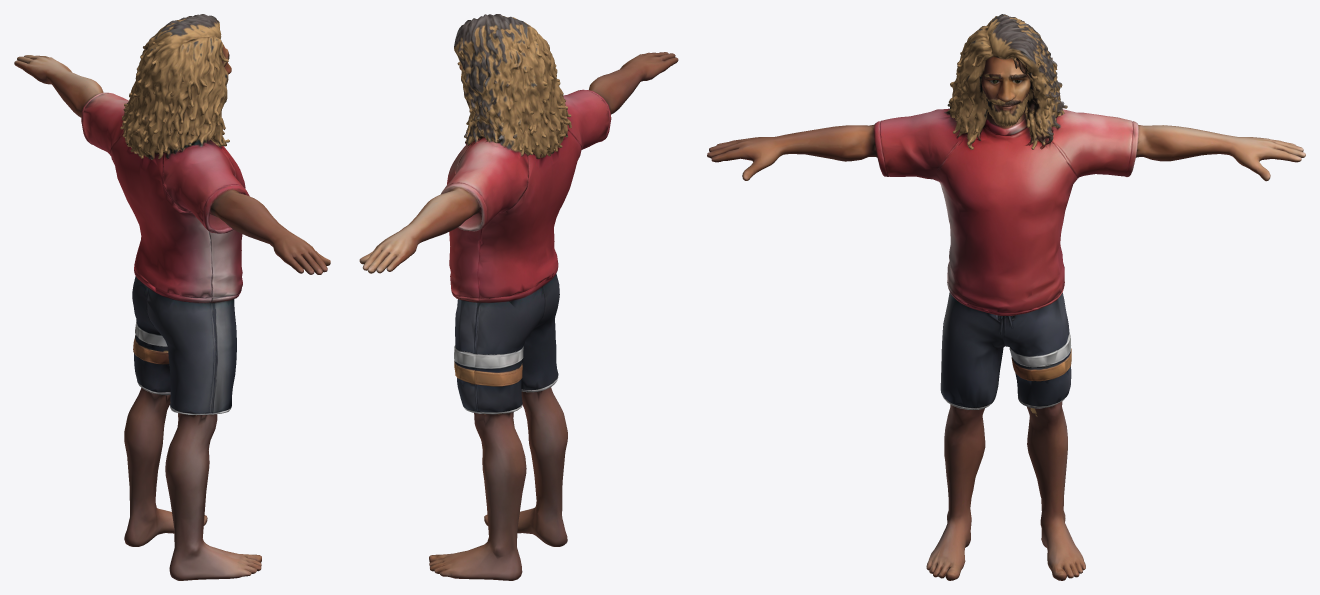
The model's file is pro-2.glb.
3 views of the same model, side by side, from view 1: azimuth 30°, elevation 25°; view 2: azimuth 150°, elevation 25°; view 3: azimuth 270°, elevation 25° (orthographic).
Parts seen in each view (by area): view 1: pro2; view 2: pro2; view 3: pro2.
Part boxes in pixels (x1,y1,x2,y2): pro2: [14, 14, 330, 580]; pro2: [359, 14, 678, 580]; pro2: [707, 14, 1305, 580].
Bounding box in the file's own units: 0.2025 × 0.9766 × 0.9792.
Materials: 1 (1 with a texture image).
